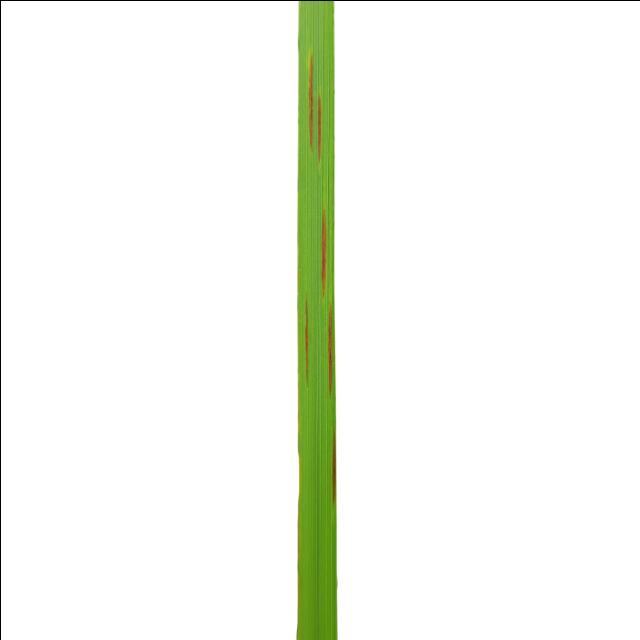Narrow brown: (250, 0, 512, 640)
